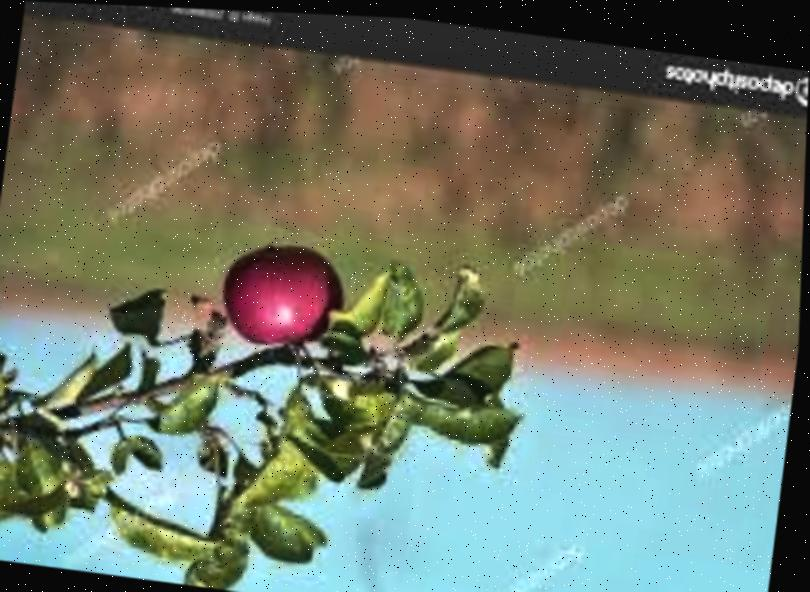HEALTHY: (202, 222, 358, 384)
